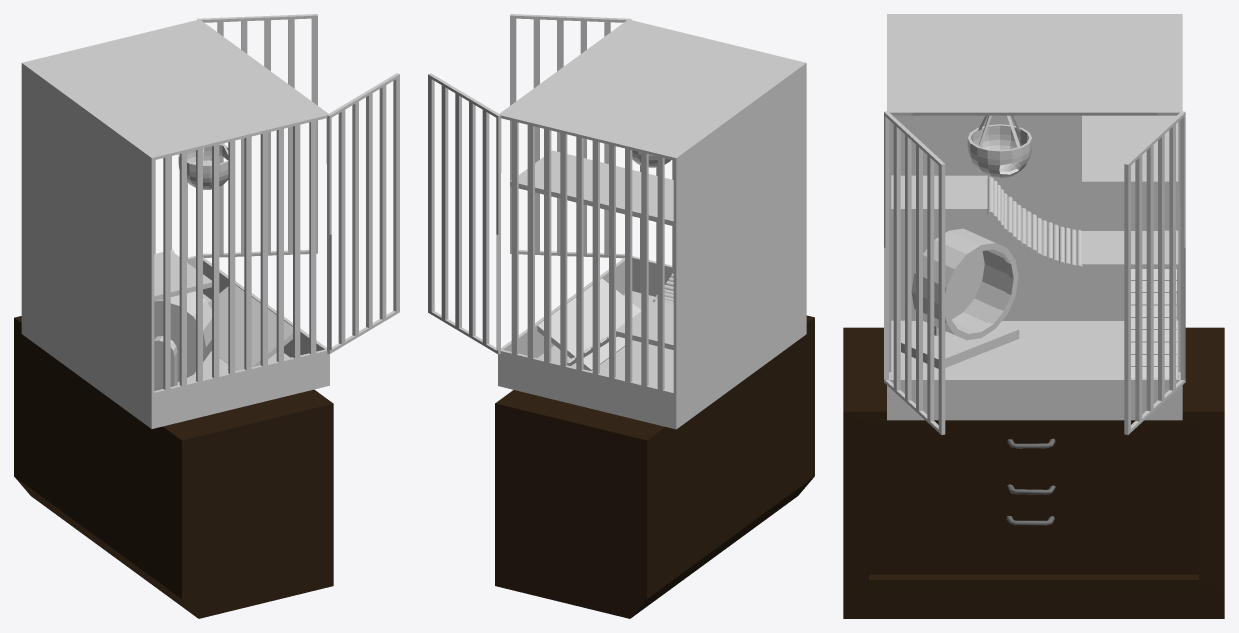
The model's file is Cage.fbx.
3 renders of one model, left to right at view 1: azimuth 30°, elevation 25°; view 2: azimuth 150°, elevation 25°; view 3: azimuth 270°, elevation 25°, orthographic. The views are drawn at different scales.
Parts seen in each view (by area): view 1: Cube, hyllyhomma.001, Cube.002, Plane.003, Cylinder, Plane.001, Cone.001, Cylinder.001; view 2: Cube, hyllyhomma.001, Cube.002, Plane.002, Plane.003, Plane; view 3: hyllyhomma.001, Cube, Cube.002, Cylinder, Plane.002, Cylinder.002, Cone.001, Plane.001, Plane, Cube.003, Cylinder.001, hyllyhommankahvakahva.001.
Boxes of the visible parts, x1=… form: Cube: x1=21, y1=20, x2=329, y2=428; hyllyhomma.001: x1=14, y1=316, x2=333, y2=618; Cube.002: x1=197, y1=14, x2=399, y2=353; Plane.003: x1=208, y1=285, x2=292, y2=370; Cylinder: x1=154, y1=291, x2=211, y2=381; Plane.001: x1=154, y1=251, x2=211, y2=301; Cone.001: x1=178, y1=144, x2=228, y2=189; Cylinder.001: x1=154, y1=336, x2=208, y2=390; Cube: x1=498, y1=19, x2=806, y2=429; hyllyhomma.001: x1=495, y1=315, x2=814, y2=618; Cube.002: x1=428, y1=14, x2=631, y2=354; Plane.002: x1=510, y1=150, x2=673, y2=226; Plane.003: x1=537, y1=278, x2=641, y2=370; Plane: x1=616, y1=300, x2=673, y2=349; hyllyhomma.001: x1=843, y1=327, x2=1224, y2=618; Cube: x1=887, y1=14, x2=1182, y2=420; Cube.002: x1=884, y1=111, x2=1185, y2=434; Cylinder: x1=911, y1=228, x2=1018, y2=340; Plane.002: x1=1082, y1=115, x2=1178, y2=186; Cylinder.002: x1=987, y1=177, x2=1082, y2=271; Cone.001: x1=967, y1=124, x2=1032, y2=178; Plane.001: x1=891, y1=175, x2=987, y2=214; Plane: x1=1082, y1=230, x2=1178, y2=269; Cube.003: x1=1131, y1=269, x2=1176, y2=378; Cylinder.001: x1=901, y1=321, x2=1019, y2=368; hyllyhommankahvakahva.001: x1=1006, y1=438, x2=1055, y2=525.
Size of the model in its own units: 1725 by 2748 by 1844.
